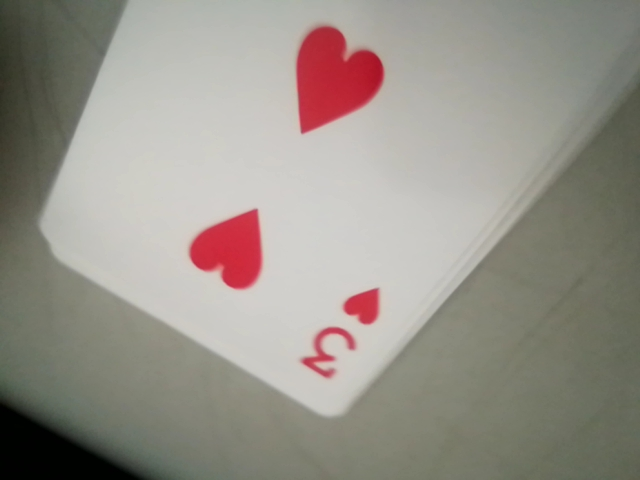hx 3: (291, 289, 385, 389)
